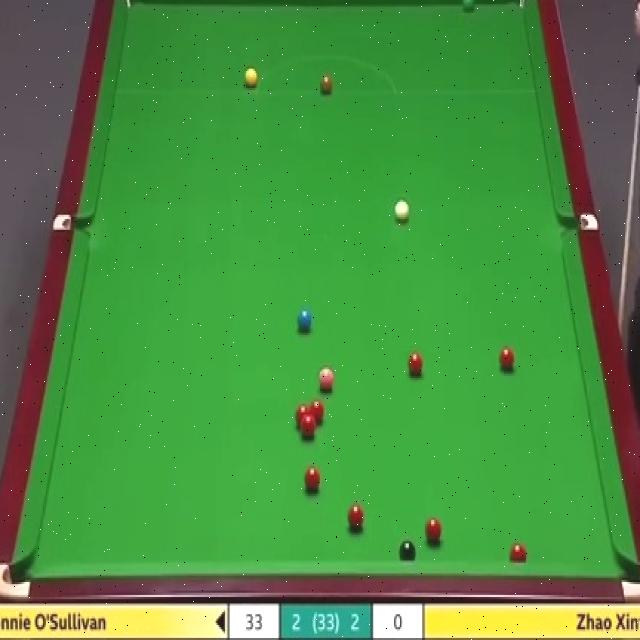black-ball: (398, 538, 416, 560)
blue-ball: (298, 309, 314, 333)
brown-ball: (319, 72, 334, 95)
green-ball: (460, 0, 476, 9)
pink-ball: (318, 365, 334, 394)
red-ball: (347, 501, 365, 532), (425, 515, 443, 544), (305, 464, 321, 492), (408, 350, 423, 376), (499, 346, 515, 370), (301, 414, 316, 438), (511, 542, 527, 562), (311, 398, 324, 422), (296, 405, 310, 419)
white-ball: (394, 196, 412, 221)
yellow-ball: (244, 66, 258, 87)
